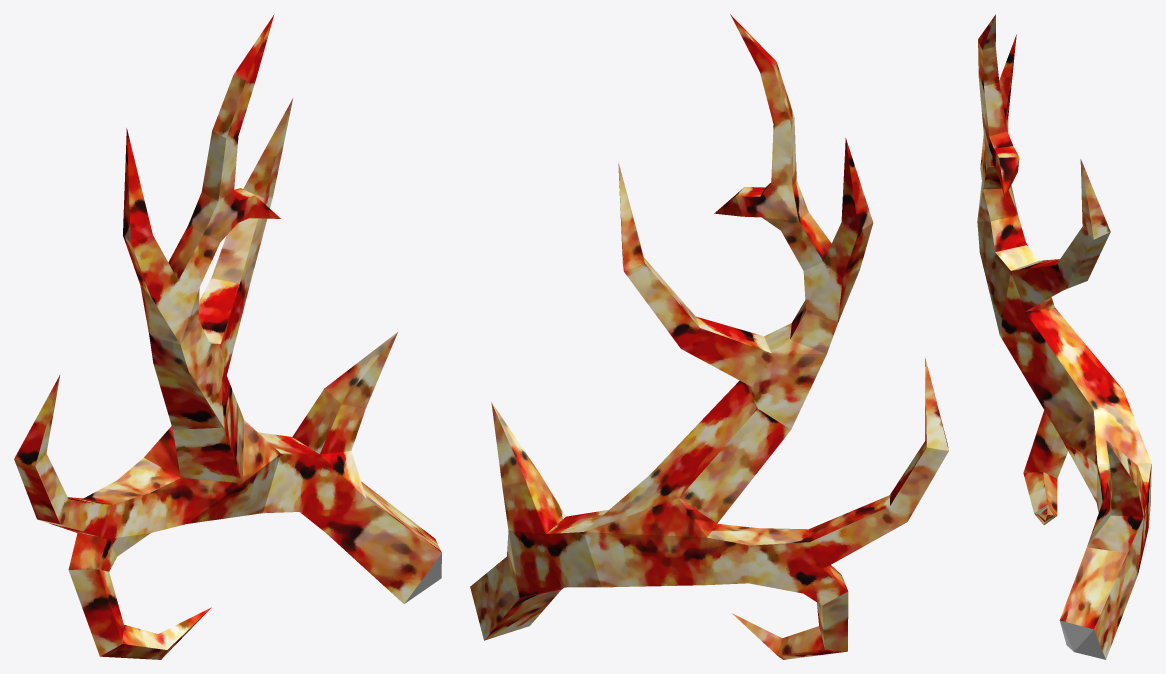
The model's file is BigRightAntler.fbx.
3 renders of one model, left to right at view 1: azimuth 30°, elevation 25°; view 2: azimuth 150°, elevation 25°; view 3: azimuth 270°, elevation 25°, orthographic. The views are drawn at different scales.
Visible parts, largest first — view 1: BigRightAntler; view 2: BigRightAntler; view 3: BigRightAntler.
Boxes of the visible parts, left/top/right/bottom form: BigRightAntler: left=14, top=14, right=441, bottom=659; BigRightAntler: left=470, top=14, right=948, bottom=659; BigRightAntler: left=977, top=14, right=1151, bottom=659.
Bounding box in the file's own units: 1115 × 1528 × 427.
